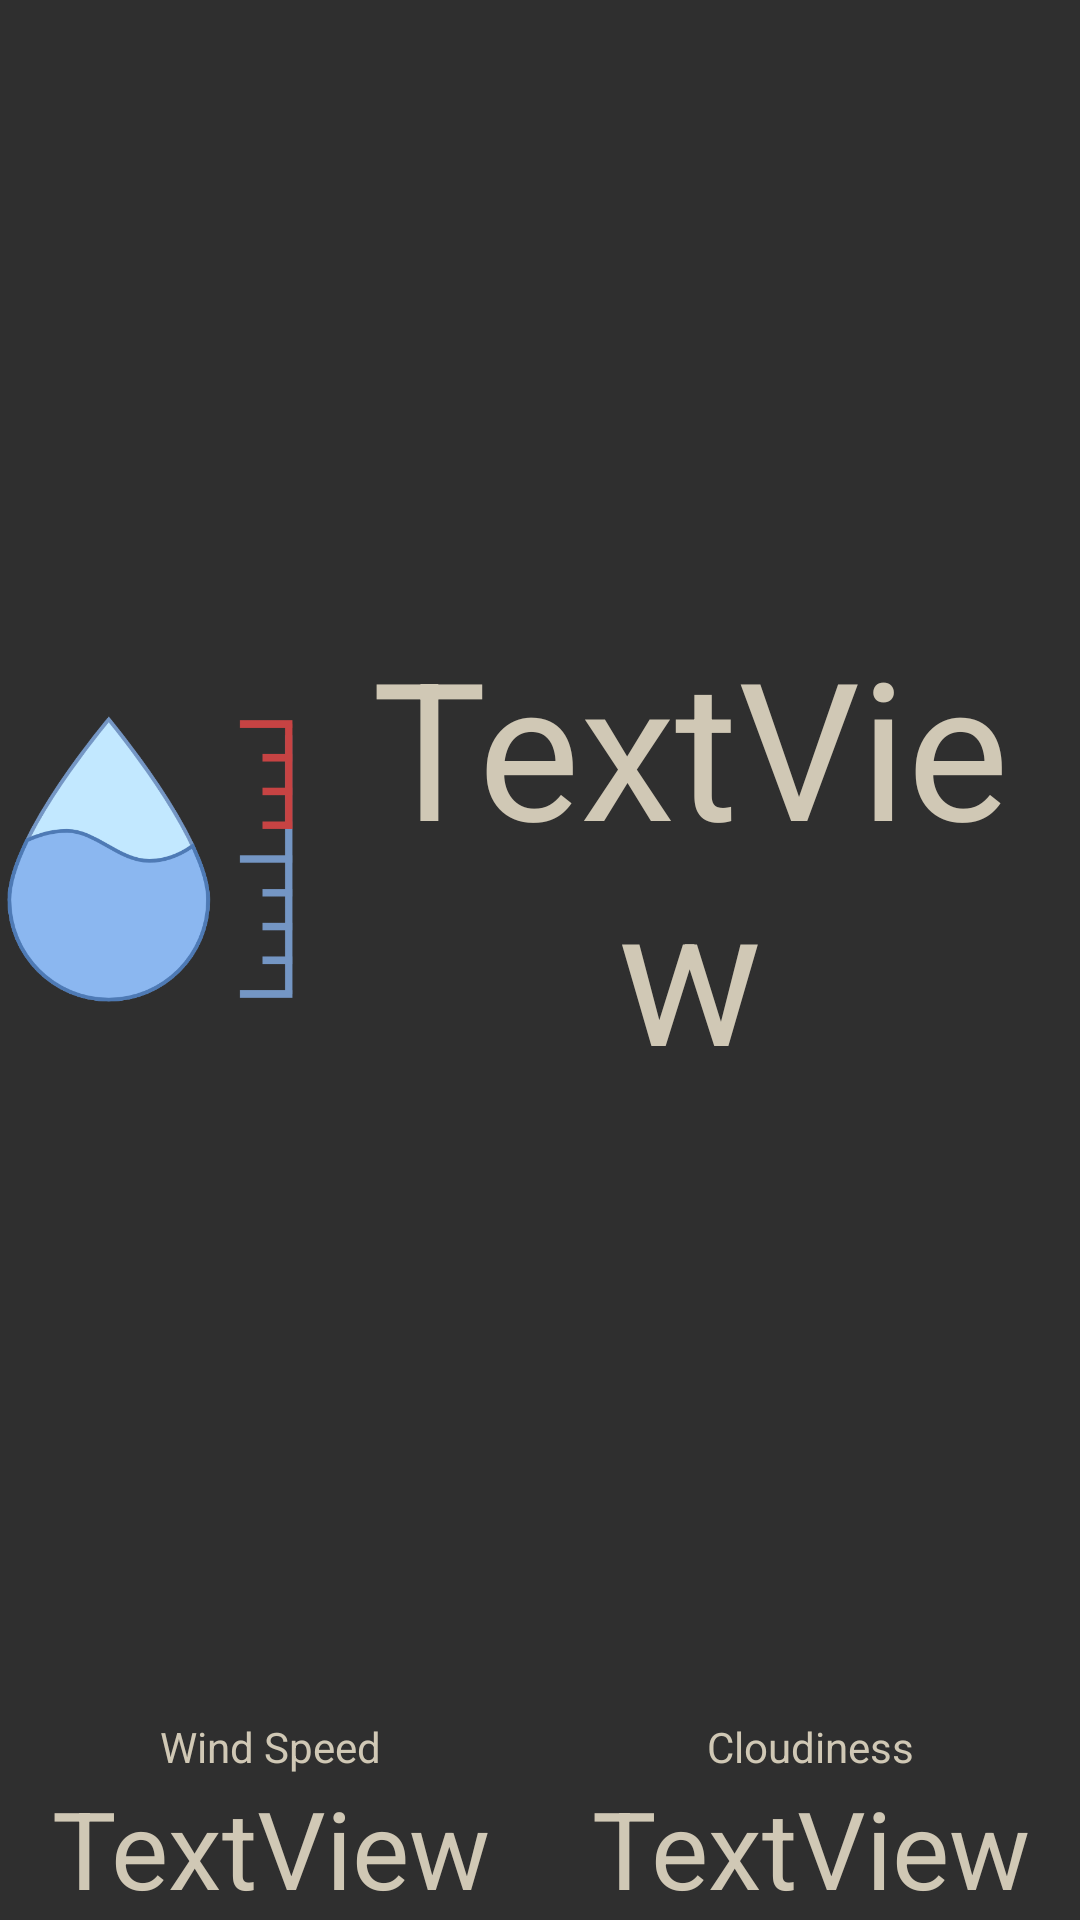

Icons on this 1080x1920 Android screen, each with its box as box=[x1, y1, x2, y2]:
hygrometer: box=[7, 716, 293, 1002]
